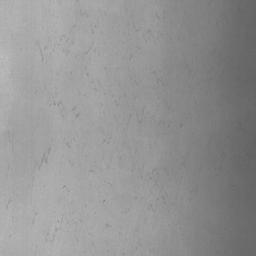Silk spot: (36, 147, 51, 170), (40, 46, 48, 64)
